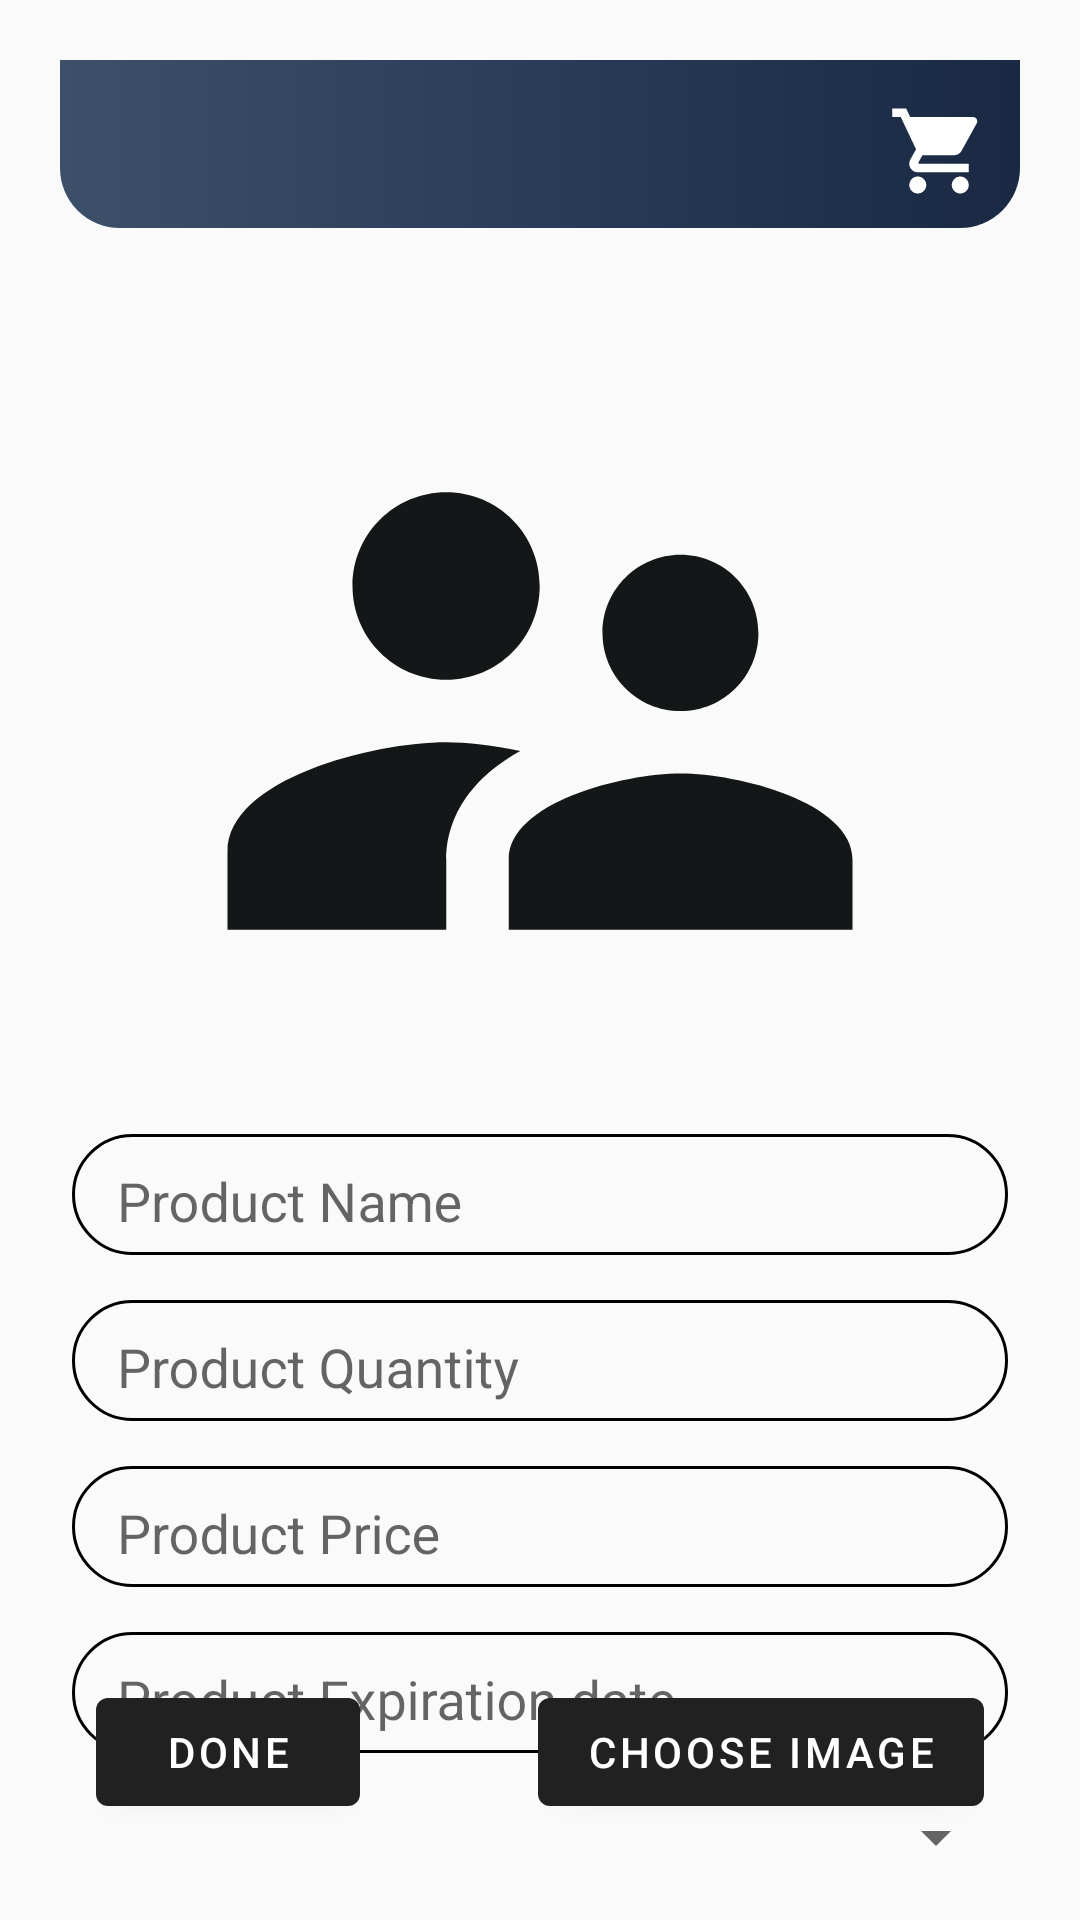

Screen size 1080w x 1920h. Icon name, then its center in pixels as (x=x, y=y):
cart: (x=935, y=151)
